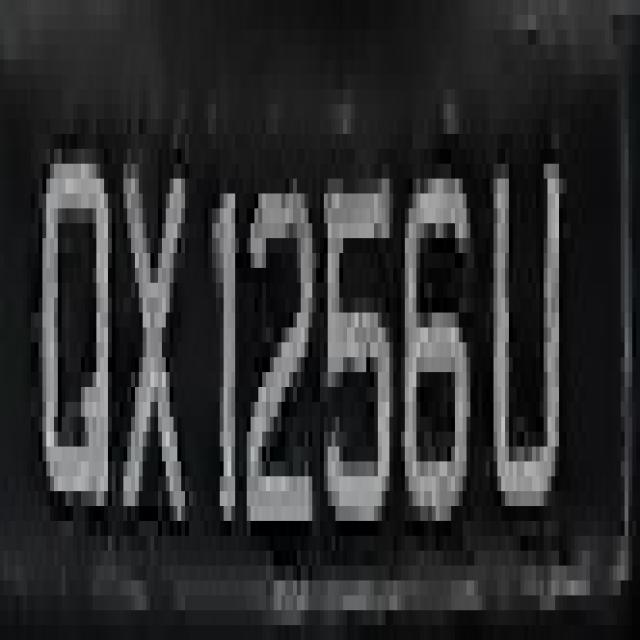1: (200, 134, 243, 536)
2: (239, 164, 324, 550)
5: (312, 119, 397, 521)
6: (401, 119, 478, 521)
Q: (31, 149, 112, 551)
U: (490, 119, 570, 521)
X: (112, 119, 189, 506)
